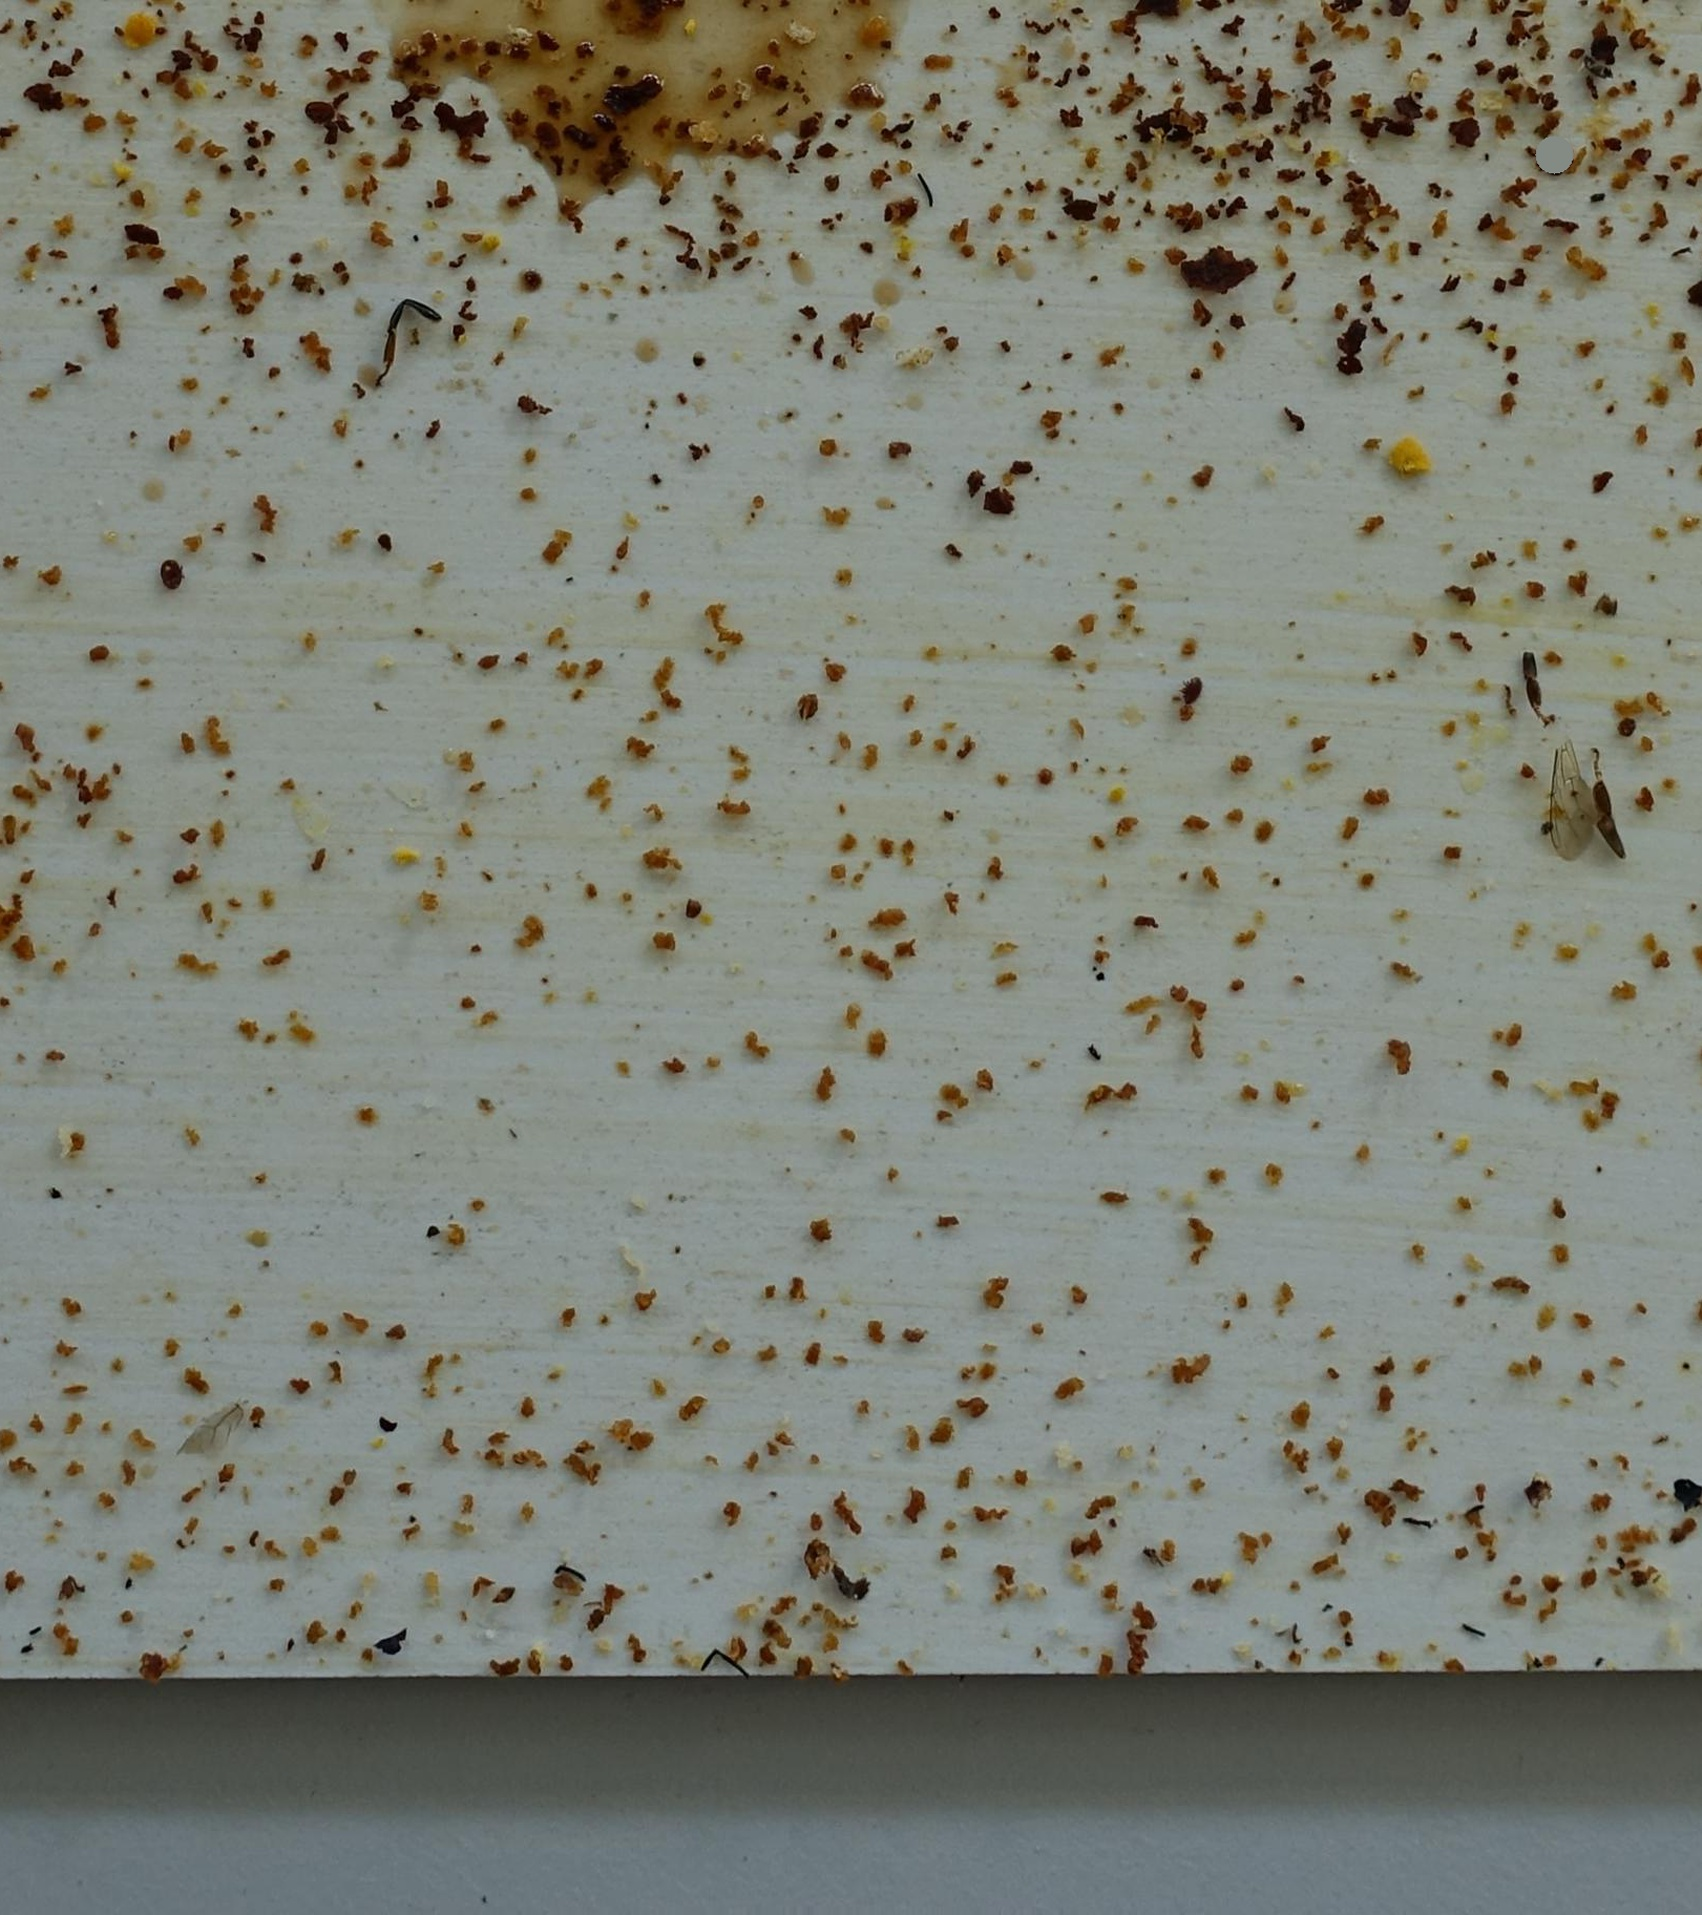Varroa: (1176, 680, 1206, 710), (527, 123, 555, 153), (159, 558, 186, 583), (307, 108, 330, 133)
